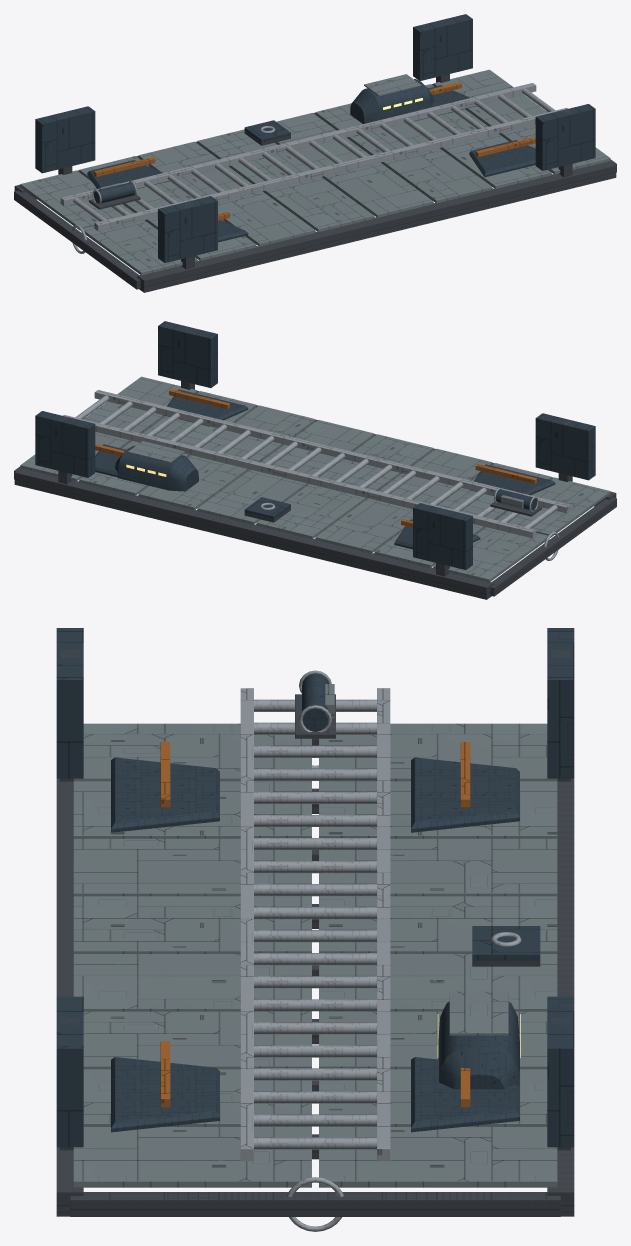
The model's file is large_ore_transfer_terrace_lod1.glb.
The picture shows the model from 3 angles, top to bottom: view 1: azimuth 30°, elevation 25°; view 2: azimuth 150°, elevation 25°; view 3: azimuth 270°, elevation 25°; orthographic projection. The views are drawn at different scales.
Parts seen in each view (by area): view 1: LOD1_Hull, LOD1_Armor, LOD1_BrushedMetal, LOD1_Mechanical, LOD1_Livery; view 2: LOD1_Hull, LOD1_Armor, LOD1_BrushedMetal, LOD1_Mechanical, LOD1_Livery; view 3: LOD1_Hull, LOD1_Armor, LOD1_BrushedMetal, LOD1_Mechanical, LOD1_Livery.
Boxes of the visible parts, x1,y1,x2,y2 form: LOD1_Hull: (20,69,610,275); LOD1_Armor: (35,14,595,262); LOD1_BrushedMetal: (60,83,567,253); LOD1_Mechanical: (14,23,616,292); LOD1_Livery: (94,82,535,220); LOD1_Hull: (20,376,610,582); LOD1_Armor: (35,321,595,569); LOD1_BrushedMetal: (63,390,570,560); LOD1_Mechanical: (14,327,616,599); LOD1_Livery: (95,389,536,527); LOD1_Hull: (73,684,557,1187); LOD1_Armor: (56,628,574,1147); LOD1_BrushedMetal: (240,670,521,1231); LOD1_Mechanical: (56,649,574,1216); LOD1_Livery: (160,742,470,1107).
Bounding box in the file's own units: 81.4 × 13.22 × 38.
Materials: 6 (5 with a texture image).
